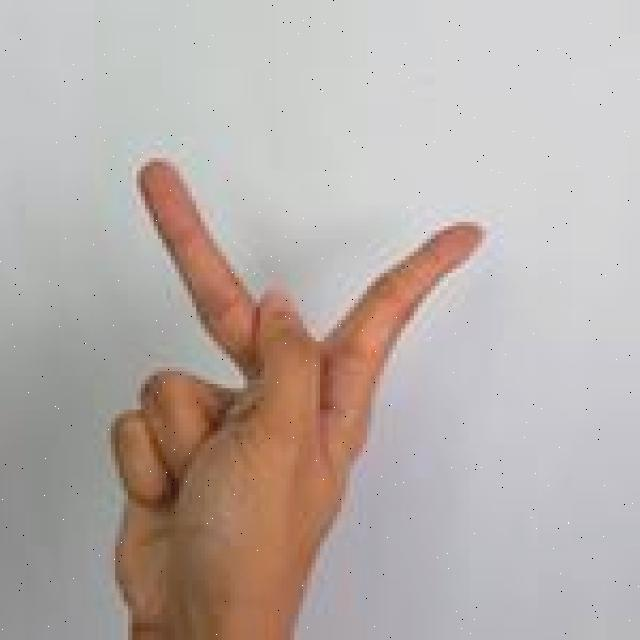K: (102, 144, 494, 640)
